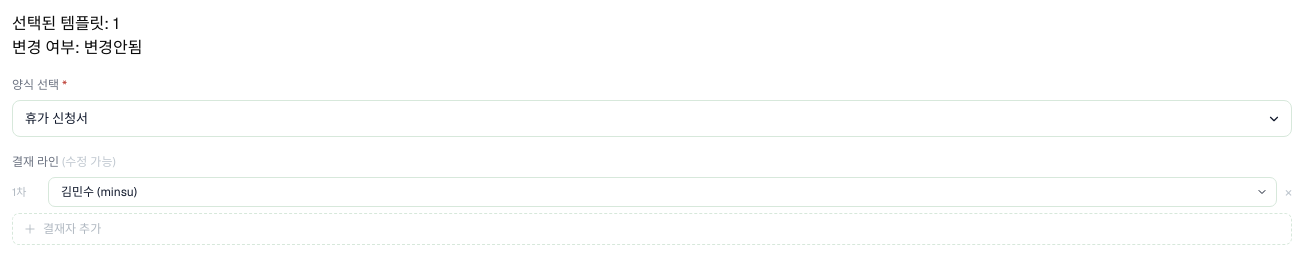
Scenario: ApprovalLine › 결재자를 변경하면 해당 결재선의 결재자를 갱신한다
Expected: the text "선택된 템플릿: 1" is shown, [12,13,119,34]
Select "이지은 (jieun)" in the dropdown named "1차 결재자": (662, 192) [49,178,1276,206]
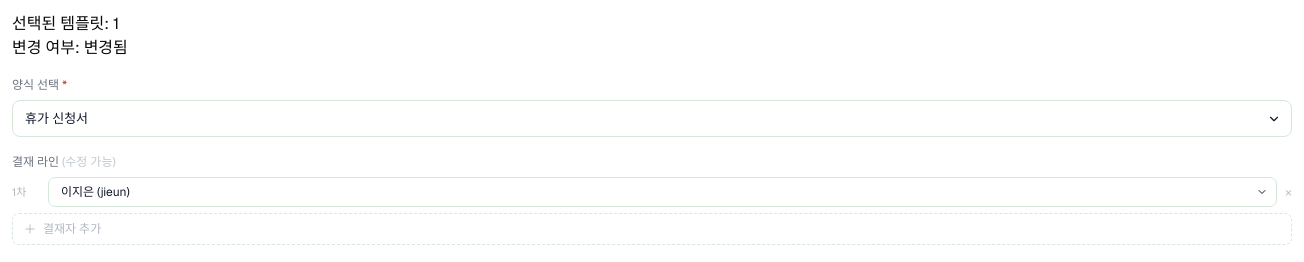
Result: the dropdown named "1차 결재자" shows "이지은 (jieun)" at [49,178,1276,206]
Result: the text "변경 여부: 변경됨" is shown at [12,37,128,58]
